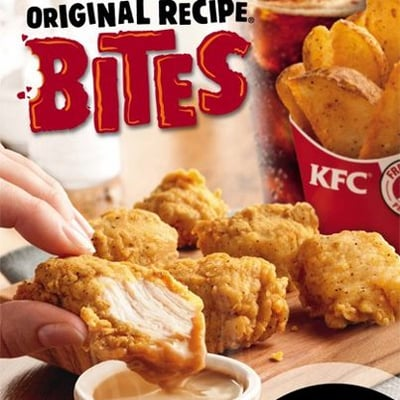soup: (1, 253, 208, 390)
